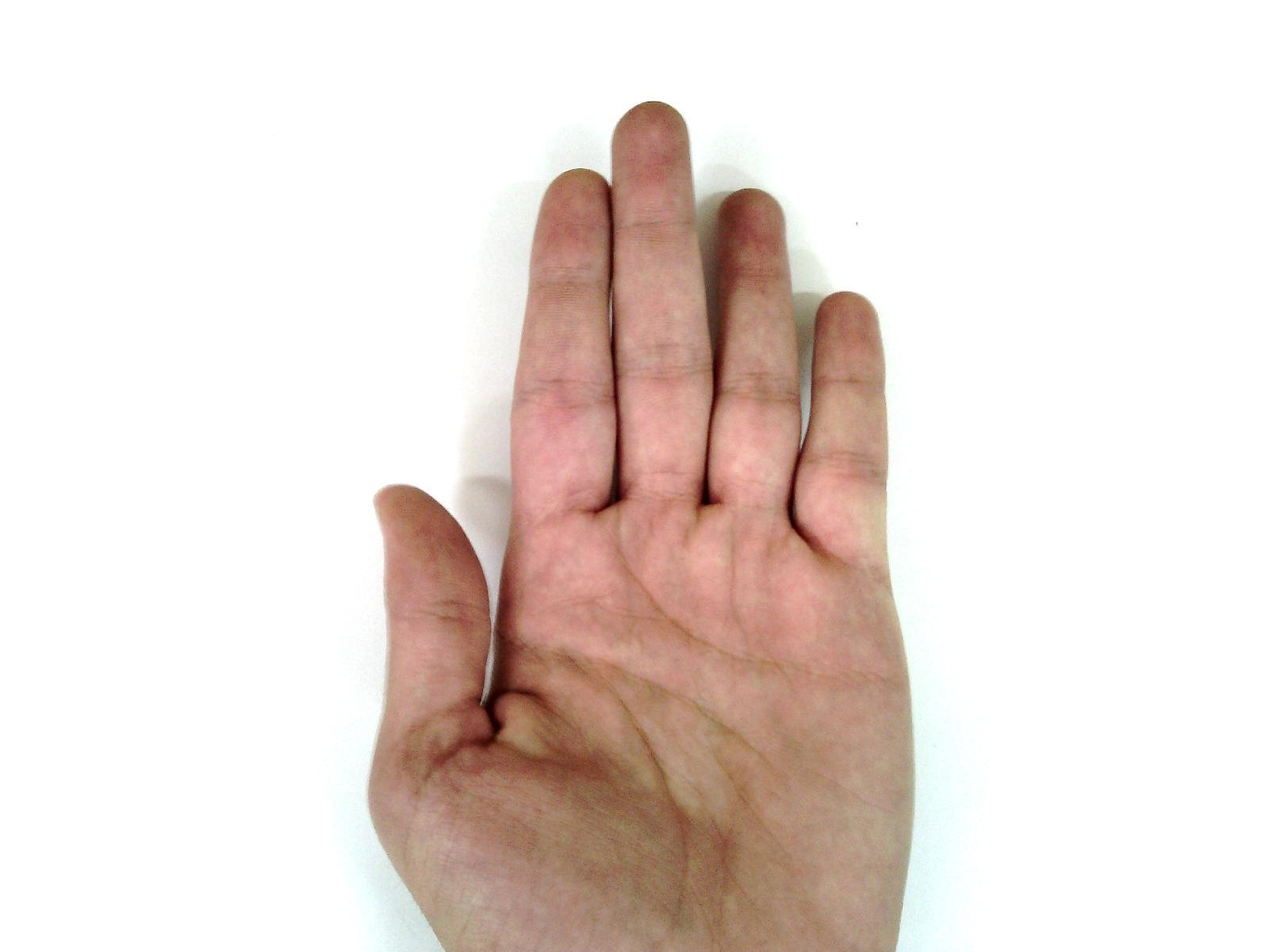open_palm: (364, 100, 921, 951)
